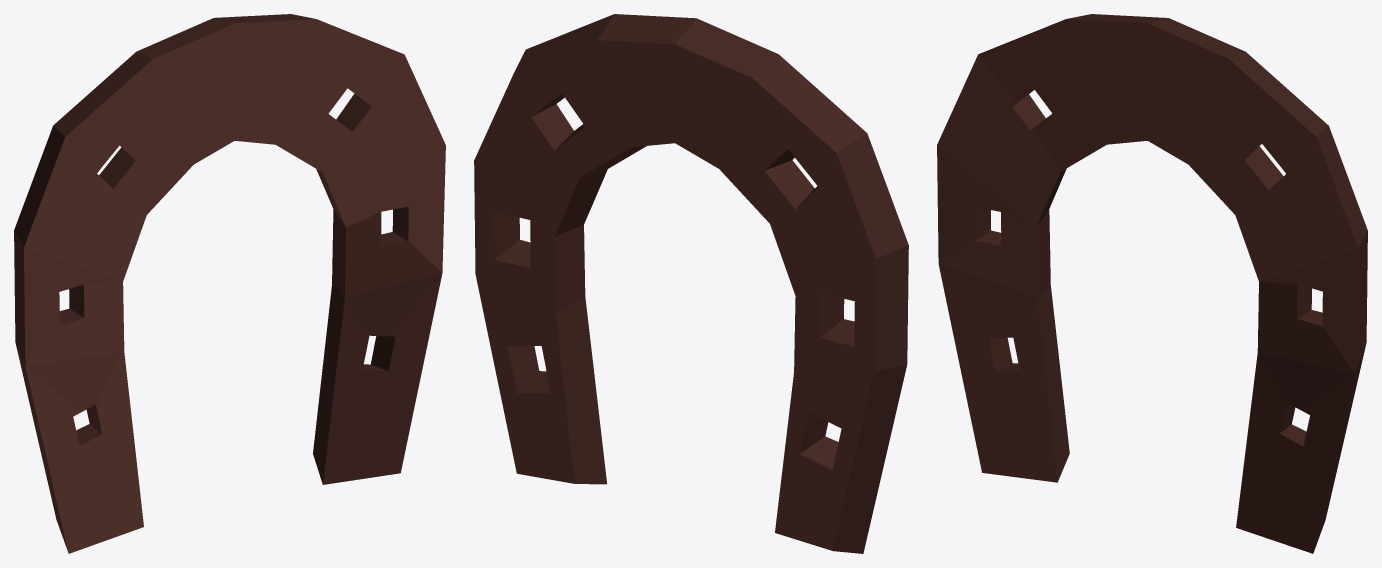
The model's file is icon_shoe.fbx.
The picture shows the model from 3 angles, left to right: view 1: azimuth 30°, elevation 25°; view 2: azimuth 150°, elevation 25°; view 3: azimuth 330°, elevation 25°; orthographic projection.
Visible parts, largest first — view 1: icon_shoe; view 2: icon_shoe; view 3: icon_shoe.
Part boxes in pixels (<box>): icon_shoe: <box>14,14,445,553</box>; icon_shoe: <box>474,14,908,553</box>; icon_shoe: <box>937,14,1367,553</box>.
Size of the model in its own units: 32.56 by 36.19 by 2.91.
